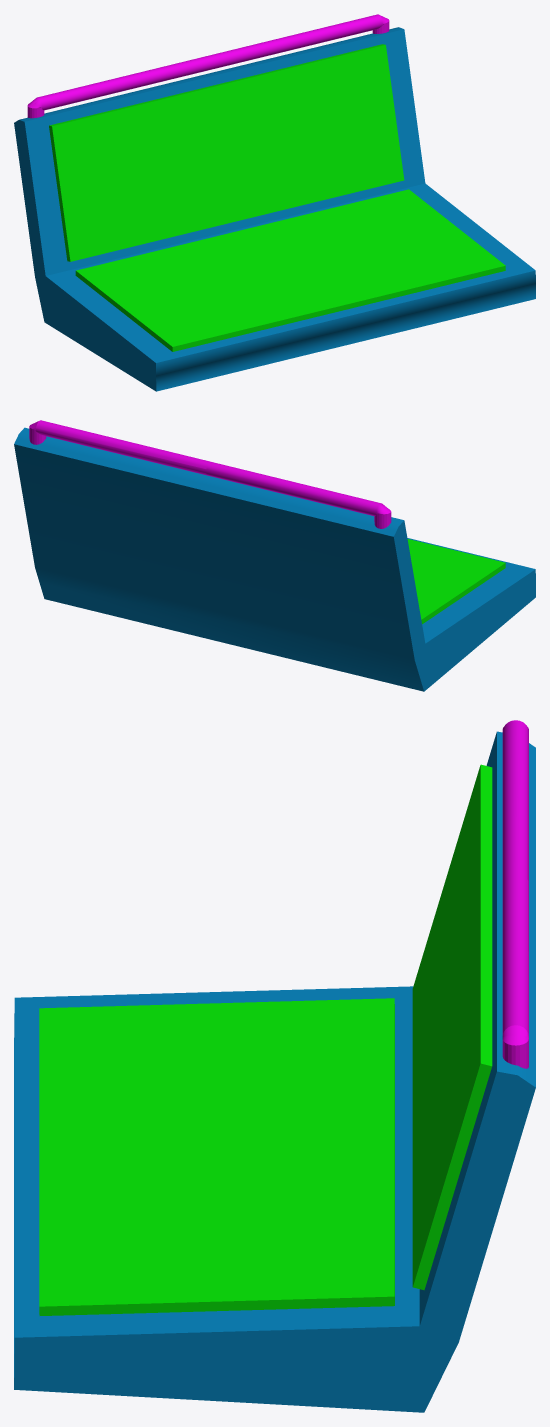
File: TrainChair.fbx
3 views of the same model, one above another, from view 1: azimuth 30°, elevation 25°; view 2: azimuth 150°, elevation 25°; view 3: azimuth 270°, elevation 25° (orthographic). The views are drawn at different scales.
Parts seen in each view (by area): view 1: polySurface88; view 2: polySurface88; view 3: polySurface88.
Part boxes in pixels (x1=…): polySurface88: x1=14, y1=14, x2=535, y2=391; polySurface88: x1=14, y1=420, x2=535, y2=691; polySurface88: x1=14, y1=720, x2=535, y2=1412.
Size of the model in its own units: 1 by 0.507 by 0.6487.
